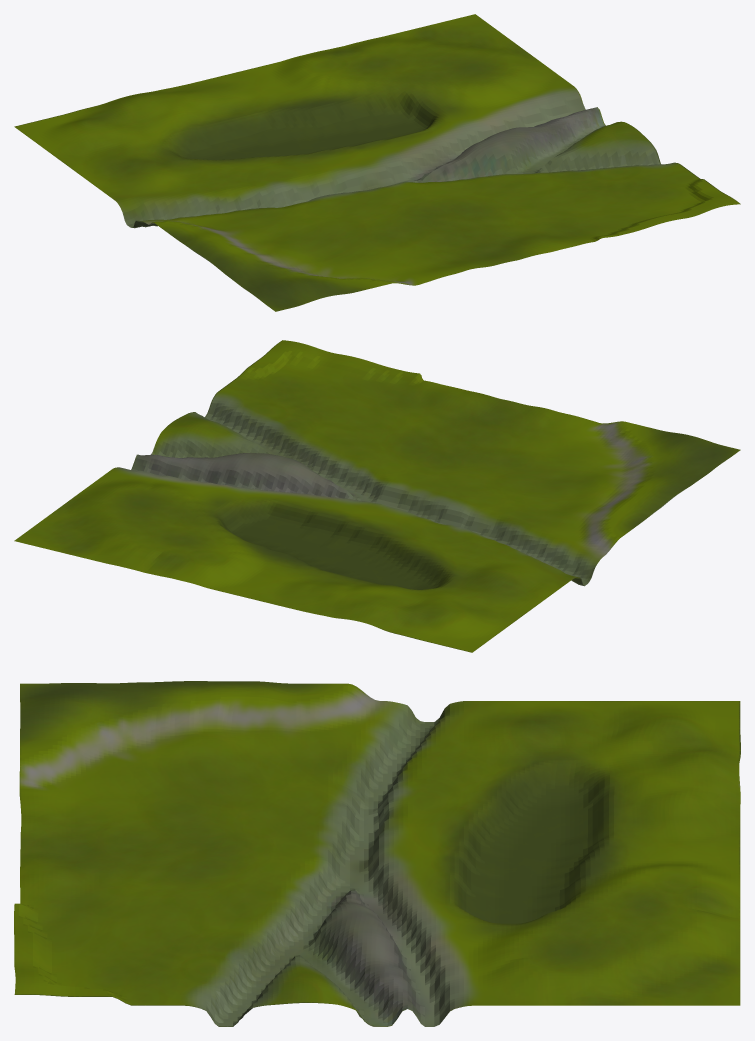
Rendered from mapateste.glb.
3 renders of one model, top to bottom at view 1: azimuth 30°, elevation 25°; view 2: azimuth 150°, elevation 25°; view 3: azimuth 270°, elevation 25°, orthographic. The views are drawn at different scales.
Visible parts, largest first — view 1: Plane; view 2: Plane; view 3: Plane.
Boxes of the visible parts, x1=… form: Plane: x1=14, y1=14, x2=740, y2=311; Plane: x1=14, y1=340, x2=740, y2=652; Plane: x1=14, y1=681, x2=740, y2=1026.
Size of the model in its own units: 457 by 30.55 by 454.
Materials: 1 (1 with a texture image).
